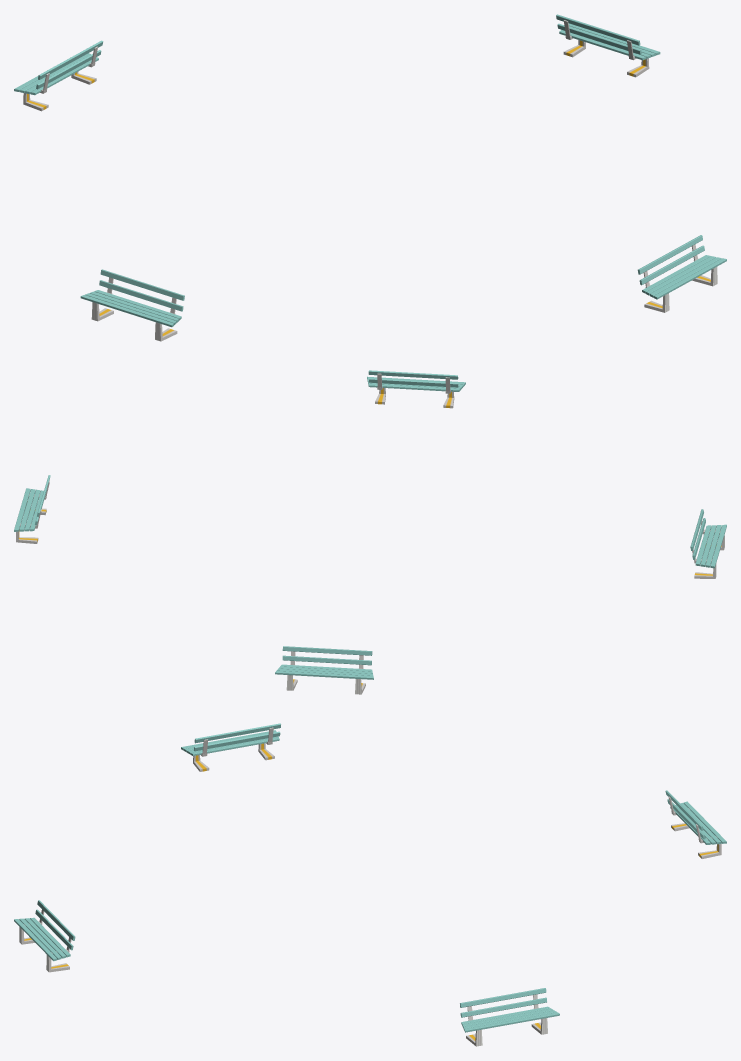
Rendered from Crossing_Benches.fbx.
The picture shows the model from 3 angles, top to bottom: view 1: azimuth 30°, elevation 25°; view 2: azimuth 150°, elevation 25°; view 3: azimuth 270°, elevation 25°; orthographic projection. The views are drawn at different scales.
Visible parts, largest first — view 1: Crossing_Benches; view 2: Crossing_Benches; view 3: Crossing_Benches.
Boxes of the visible parts, left/top/right/bottom form: Crossing_Benches: left=14, top=14, right=726, bottom=341; Crossing_Benches: left=14, top=370, right=726, bottom=694; Crossing_Benches: left=14, top=723, right=726, bottom=1046.
Bounding box in the file's own units: 41.66 × 2.27 × 41.75.
1 material, 1 textured.
